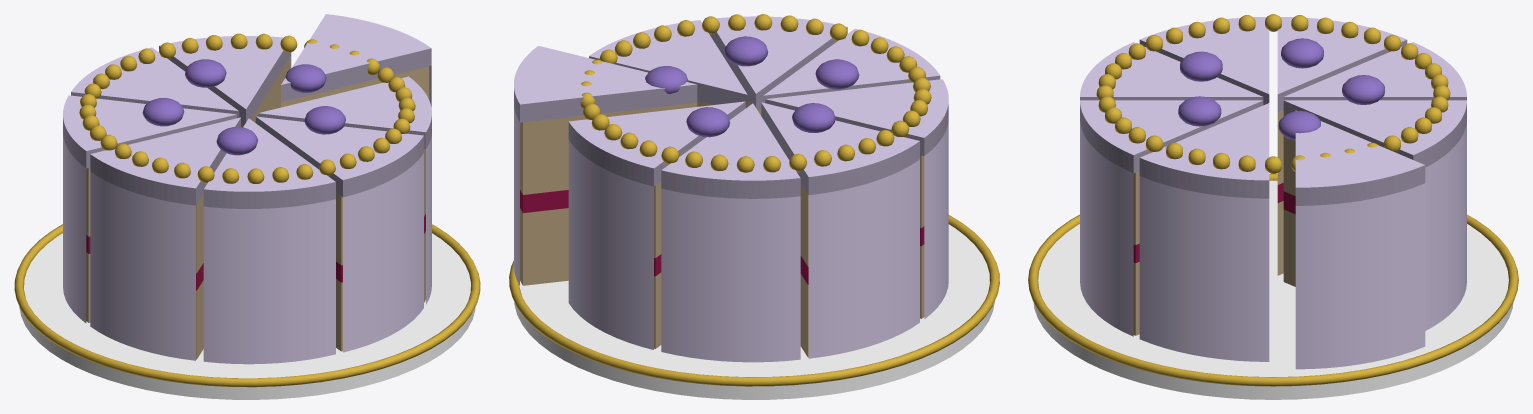
Rendered from torta-18cm-10alto-1p-8porc-lavanda.glb.
3 views of the same model, side by side, from view 1: azimuth 30°, elevation 25°; view 2: azimuth 150°, elevation 25°; view 3: azimuth 270°, elevation 25° (orthographic). The views are drawn at different scales.
Size of the model in its own units: 0.245 by 0.1216 by 0.245.
